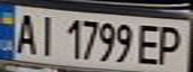1: (60, 16, 84, 60)
7: (78, 17, 100, 61)
9: (112, 20, 139, 64), (97, 19, 118, 62)
A: (9, 10, 39, 55)
E: (136, 21, 163, 65)
I: (33, 11, 60, 57)
P: (154, 23, 190, 66)
